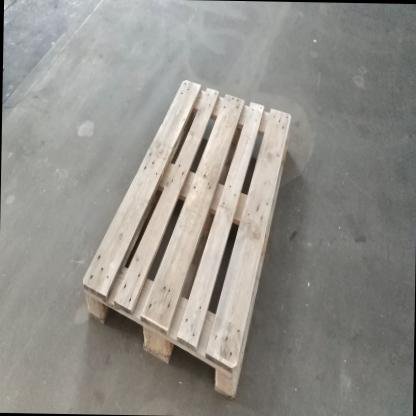BoxFace: (78, 72, 295, 408)
